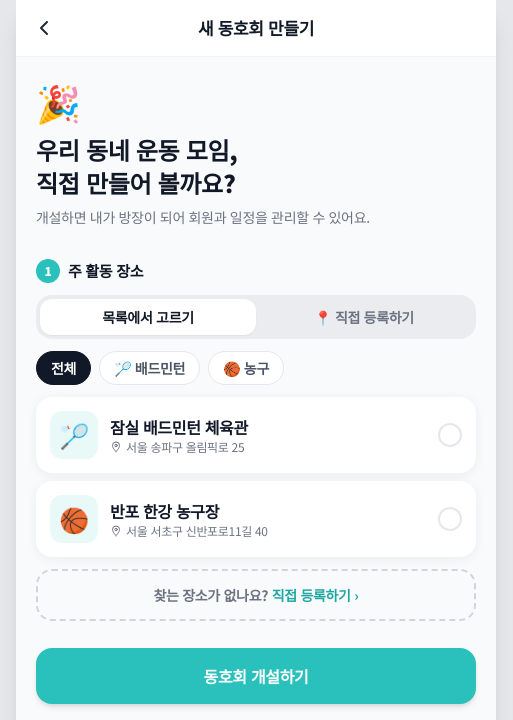
동호회 만들기 › 종목 칩으로 장소 목록을 거를 수 있다
Check: the radio button labelled "🏸 잠실 배드민턴 체육관 서울 송파구 올림픽로 25" is shown, box [36,397,476,473]
Click the button "🏀 농구" at [246, 368], box [208,351,284,385]
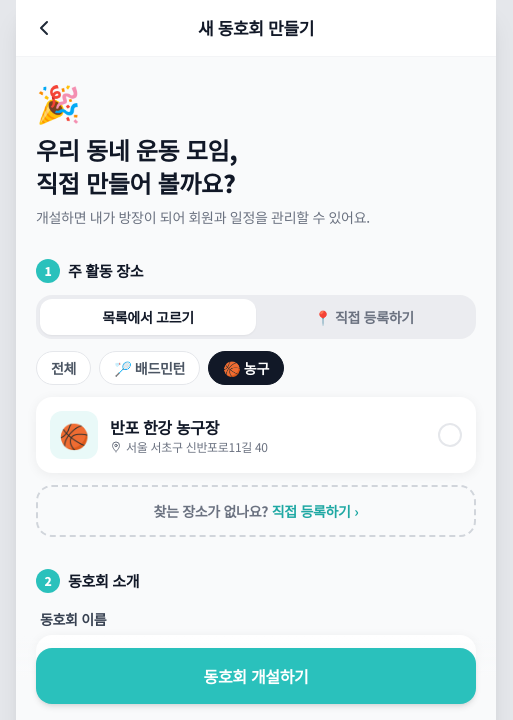
Check: the radio button labelled "🏀 반포 한강 농구장 서울 서초구 신반포로11길 40" is shown, box [36,397,476,473]
Check: the radio button labelled "잠실 배드민턴 체육관" is gone
